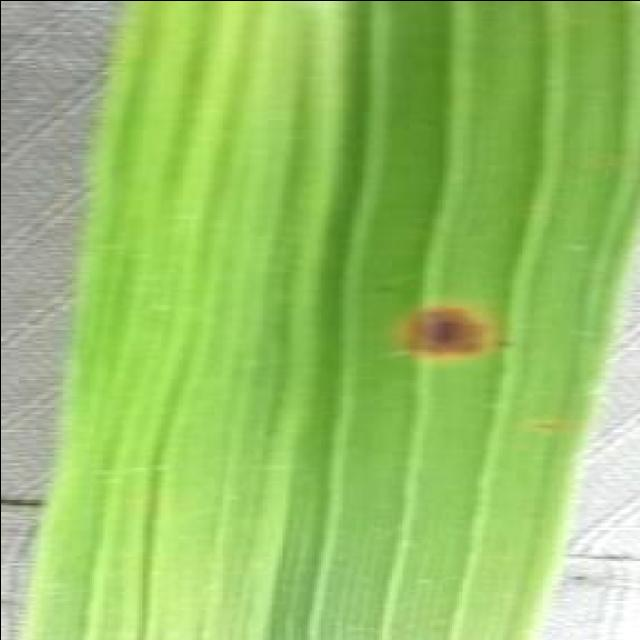Brown_Spot: (374, 280, 499, 382), (522, 416, 562, 440), (489, 336, 515, 362)
